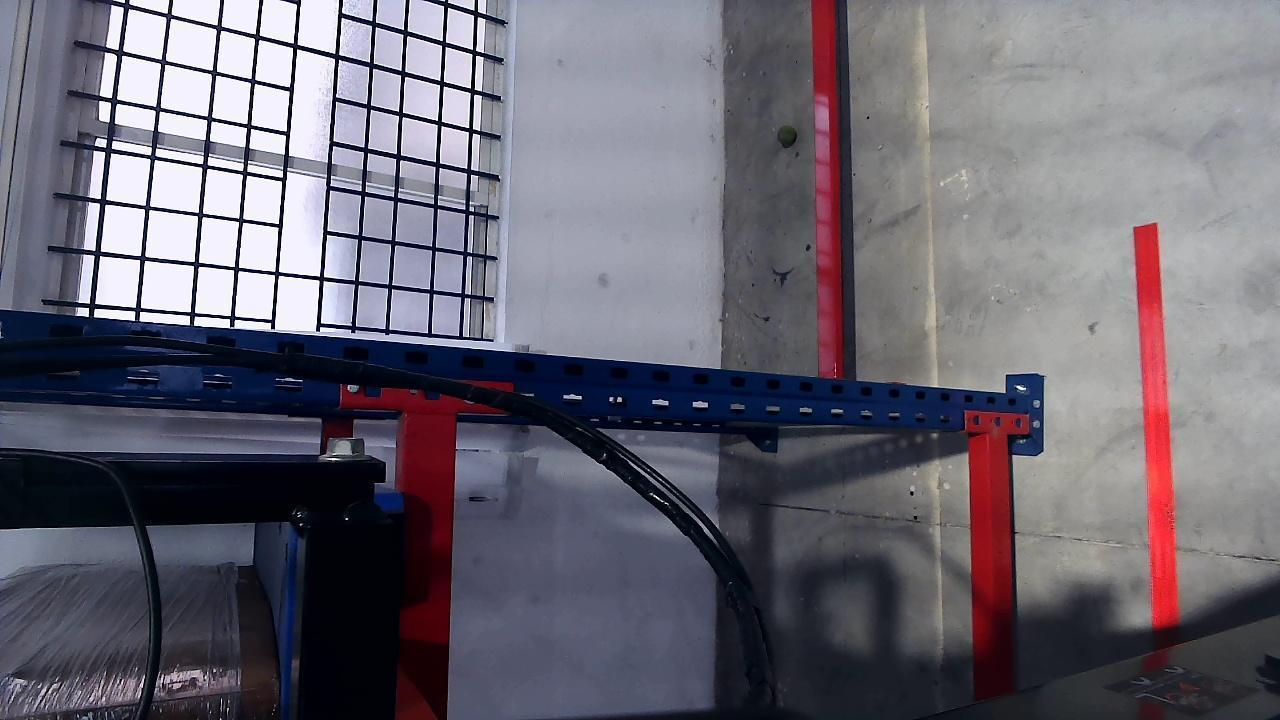red_line: (1133, 222, 1180, 630)
